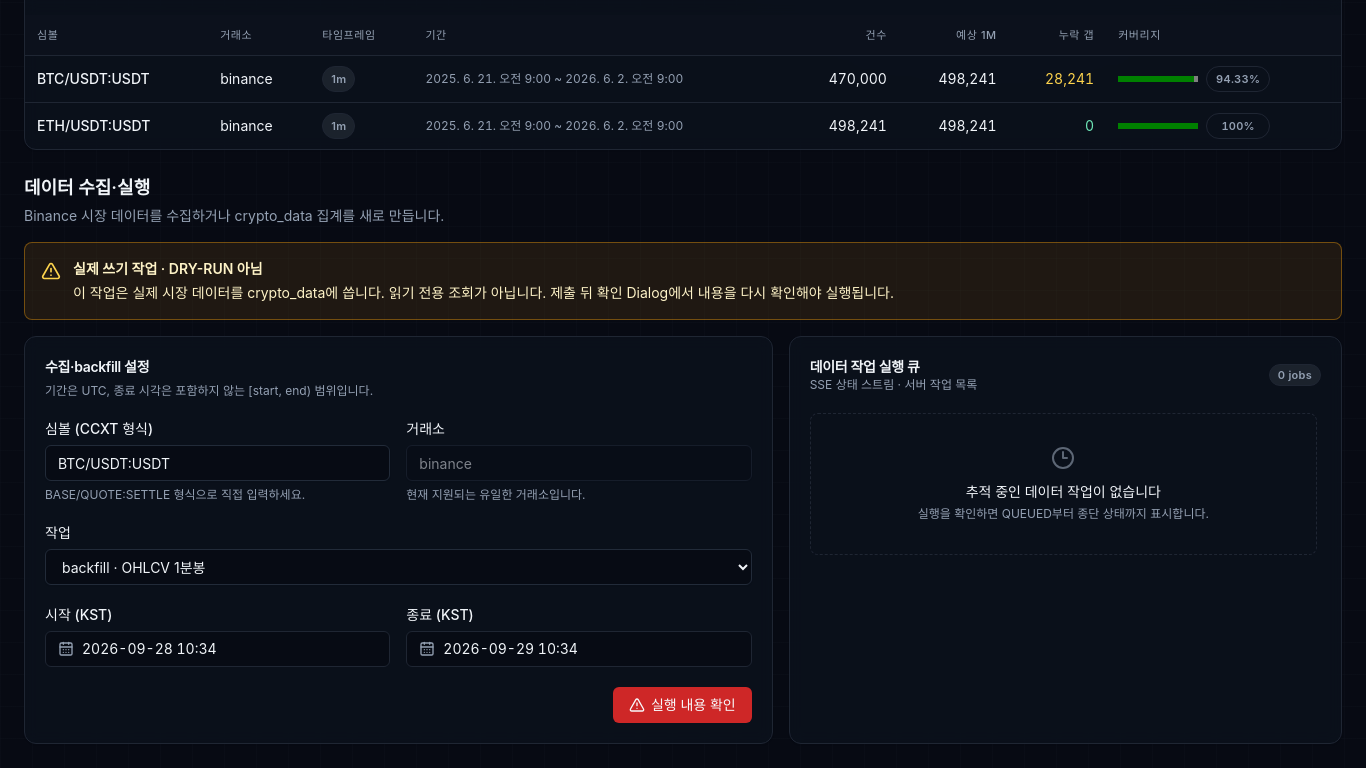
Test: 데이터 수집·backfill 실행 › 쓰기 경고와 폼을 렌더하고 refresh_aggregates에서만 기본 timeframes를 표시한다
The image size is (1366, 768).
(page scrolled)
Expected: the text "실제 쓰기 작업 · DRY-RUN 아님" is shown, [73, 260, 263, 276]
Expected: the text "실제 시장 데이터를 crypto_data에 씁니다" is shown, [73, 284, 894, 300]
Select "refresh_aggregates · 상위 타임프레임 집계" in the dropdown labelled "작업" at [398, 566], box [45, 548, 752, 584]
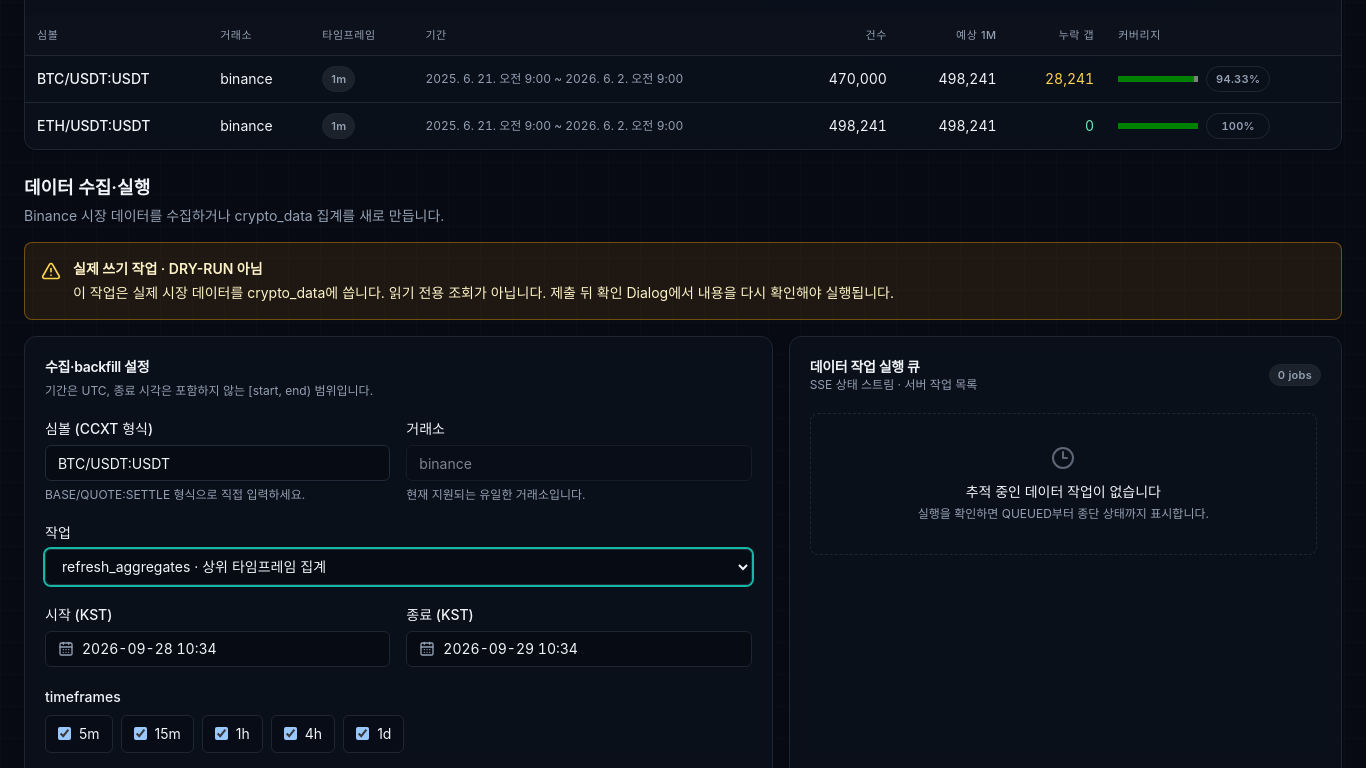
Expected: the number of checkboxes is 5, [58, 727, 71, 740]; [134, 727, 147, 740]; [215, 727, 228, 740]; [284, 727, 297, 740]; [356, 727, 369, 740]
Expected: the checkbox labelled "5m" is checked, [58, 727, 71, 740]
Expected: the checkbox labelled "15m" is checked, [134, 727, 147, 740]
Select "funding_backfill · 펀딩비" in the dropdown labelled "작업" at [398, 566], box [45, 548, 752, 584]
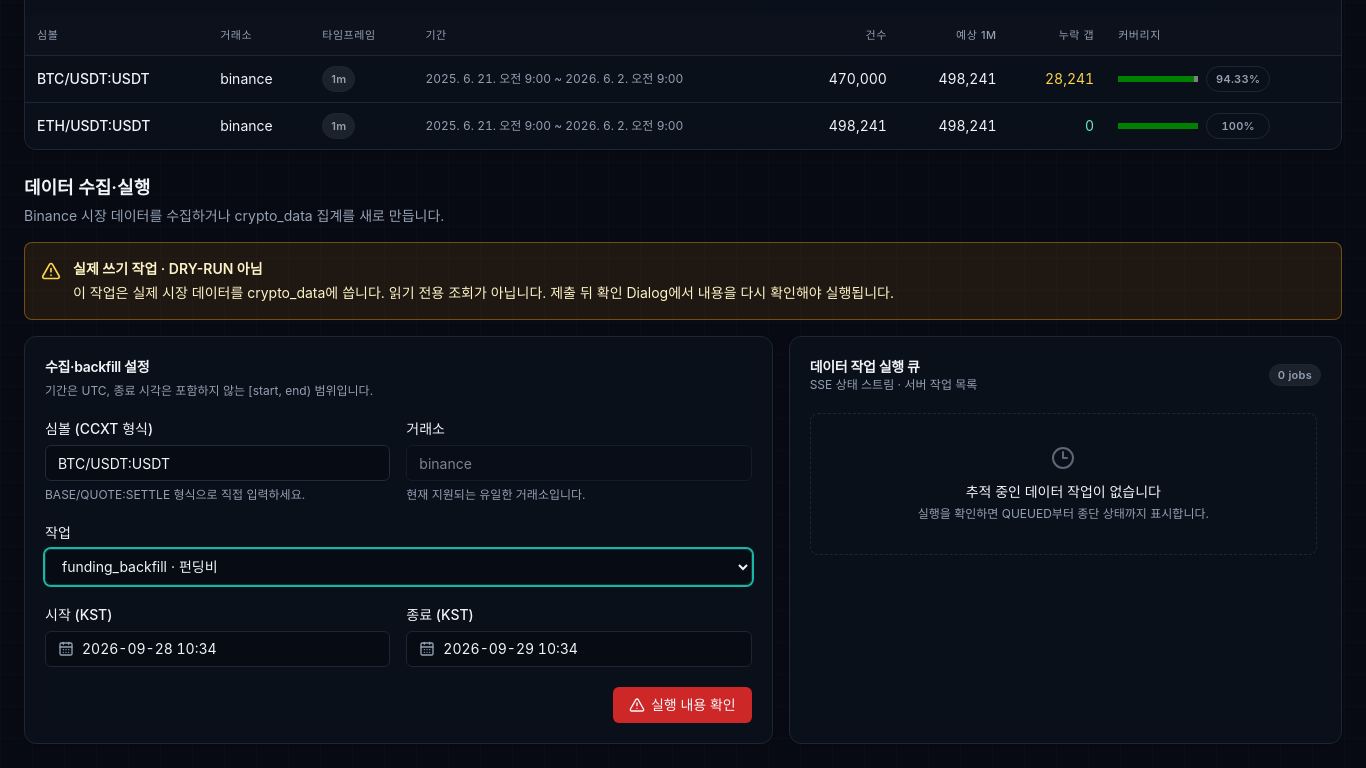
Expected: the text "timeframes" is gone
